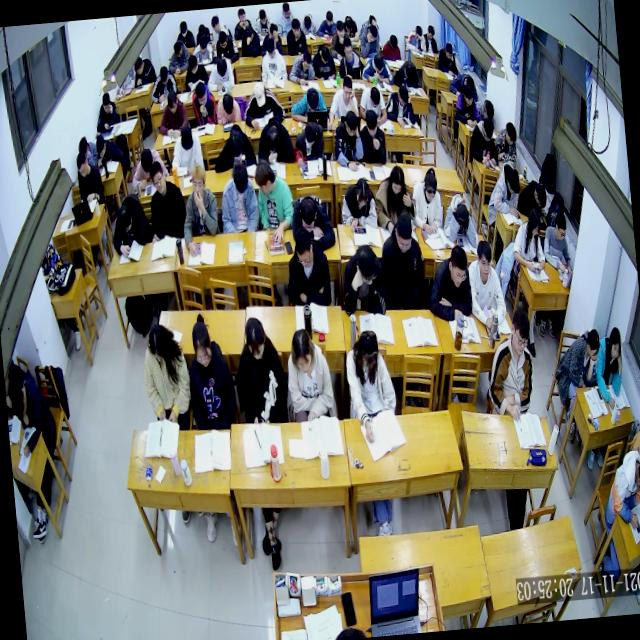bow: (108, 191, 152, 261), (288, 188, 336, 252), (209, 119, 257, 175), (240, 78, 286, 130), (253, 110, 296, 165), (440, 191, 480, 250), (127, 144, 170, 194), (288, 82, 328, 121), (360, 48, 393, 88), (515, 176, 549, 213), (285, 48, 316, 88), (92, 132, 126, 168), (390, 58, 420, 92), (447, 70, 478, 100), (237, 23, 262, 59), (132, 55, 156, 88), (342, 10, 359, 38)
down: (6, 368, 56, 458), (288, 324, 314, 374), (508, 306, 532, 356), (190, 316, 213, 368), (243, 314, 268, 361), (356, 328, 382, 373), (354, 241, 379, 287), (446, 240, 470, 287), (145, 322, 170, 367), (392, 209, 413, 254), (292, 224, 314, 266), (8, 378, 28, 418), (297, 194, 317, 230), (230, 160, 250, 196), (585, 324, 602, 361), (116, 202, 134, 235), (227, 128, 245, 160), (388, 164, 405, 197), (454, 198, 470, 232), (421, 170, 438, 202), (353, 176, 370, 208), (502, 166, 520, 196), (264, 123, 282, 153), (526, 207, 542, 240), (178, 121, 195, 150), (552, 210, 568, 240), (532, 179, 548, 209), (304, 85, 320, 114), (138, 147, 154, 176), (74, 148, 90, 176), (302, 118, 318, 146), (343, 108, 359, 136), (252, 78, 267, 107), (92, 128, 106, 158), (503, 118, 518, 146), (340, 73, 354, 103), (364, 108, 379, 136), (630, 459, 640, 500), (480, 112, 494, 140), (194, 79, 208, 107), (166, 88, 180, 115), (396, 80, 410, 105), (368, 82, 382, 107), (220, 92, 234, 116), (214, 56, 228, 79), (482, 96, 494, 120), (462, 82, 474, 106), (402, 59, 416, 79), (100, 90, 112, 113), (156, 61, 168, 84), (186, 51, 198, 74), (264, 36, 276, 59), (372, 50, 384, 73), (196, 34, 208, 56), (290, 16, 302, 38), (366, 20, 378, 42), (300, 50, 313, 70), (240, 24, 253, 43), (132, 56, 144, 76), (216, 28, 228, 48), (266, 20, 278, 40), (209, 12, 220, 32), (320, 44, 331, 64), (280, 3, 292, 20), (444, 39, 454, 59), (258, 6, 268, 26), (344, 14, 354, 34), (388, 32, 398, 52), (178, 20, 188, 39), (172, 38, 182, 57), (324, 8, 334, 27), (413, 24, 422, 42), (302, 12, 312, 28), (426, 24, 435, 41)
lookup: (474, 238, 494, 281), (148, 158, 168, 197), (190, 163, 208, 200), (606, 325, 622, 363), (342, 35, 354, 61), (333, 18, 345, 38), (236, 6, 247, 24)
sit: (340, 324, 400, 444), (479, 304, 539, 422), (180, 312, 237, 433), (230, 313, 288, 427), (138, 319, 194, 433), (374, 207, 430, 313), (281, 321, 336, 424), (250, 153, 298, 244), (282, 225, 334, 309), (464, 236, 508, 335), (178, 162, 222, 260), (422, 239, 473, 322), (144, 157, 190, 246), (338, 240, 388, 320), (215, 154, 260, 234), (550, 326, 604, 390), (599, 448, 640, 531), (372, 160, 417, 233), (592, 322, 630, 408), (507, 204, 546, 278), (482, 156, 523, 218), (166, 114, 205, 178), (408, 168, 444, 236), (330, 109, 366, 174), (337, 173, 378, 228), (324, 72, 361, 132), (540, 205, 572, 273), (291, 114, 327, 168), (357, 104, 388, 166), (74, 146, 105, 205), (155, 86, 190, 137), (466, 114, 498, 168), (382, 82, 417, 130), (357, 80, 388, 128), (189, 76, 218, 126), (334, 32, 364, 80), (256, 32, 287, 78), (492, 120, 520, 170), (451, 80, 480, 126), (93, 87, 121, 133), (204, 54, 236, 94), (148, 60, 178, 101), (180, 50, 208, 90), (327, 18, 352, 62), (211, 26, 239, 64), (258, 19, 286, 57), (309, 39, 337, 77), (214, 88, 242, 126), (283, 16, 309, 56), (165, 37, 192, 74), (190, 29, 214, 68), (230, 5, 255, 42), (356, 20, 380, 58), (436, 37, 460, 74), (274, 1, 296, 38), (314, 8, 338, 40), (252, 5, 273, 41), (402, 20, 426, 50), (174, 18, 196, 48), (381, 29, 403, 59), (474, 94, 496, 124), (421, 24, 439, 55), (296, 7, 316, 33)
